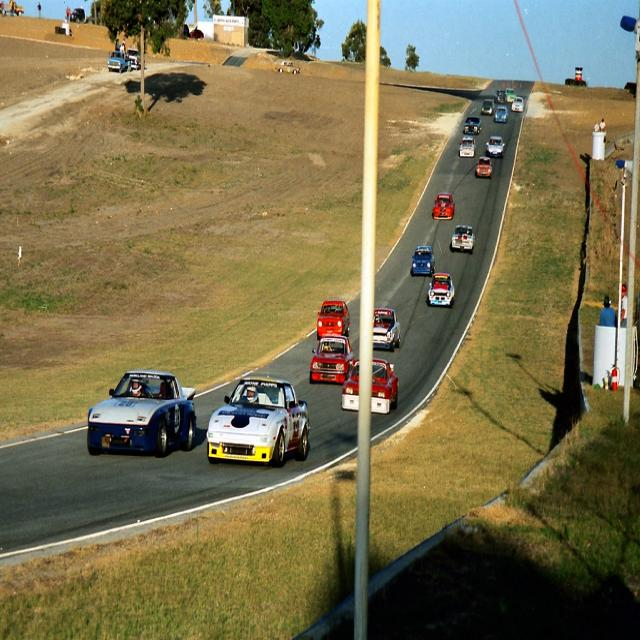car: (205, 370, 312, 470), (86, 365, 192, 462), (427, 271, 455, 305), (410, 241, 434, 279), (430, 190, 455, 224), (450, 224, 473, 253), (106, 46, 127, 75), (273, 54, 300, 74), (473, 153, 493, 177), (480, 94, 496, 118), (484, 137, 505, 154), (68, 1, 83, 24), (510, 93, 524, 113), (465, 114, 478, 131), (494, 109, 508, 123)
